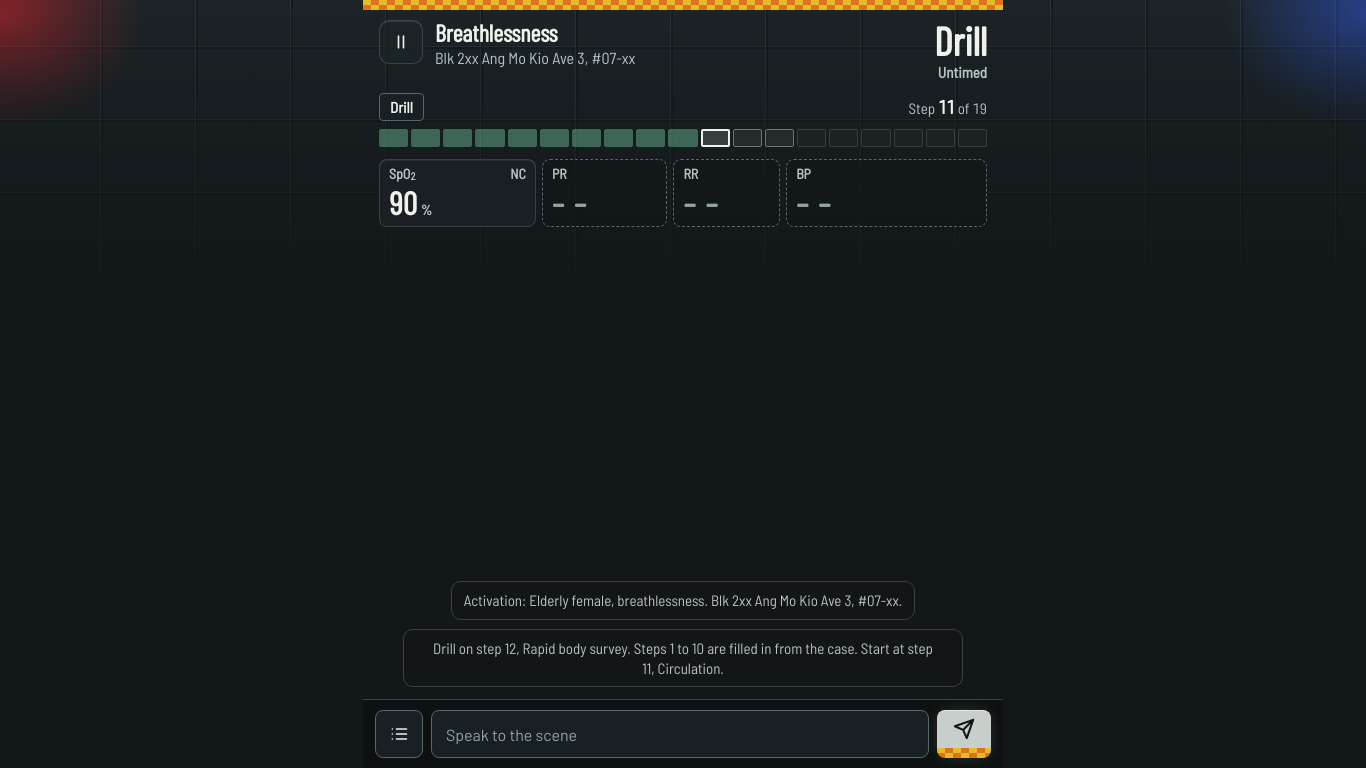
Test: Pause › in a drill the sheet offers End drill, and its confirm ends the drill
Step 1. Click the button named "Pause" → (401, 42), box 379,20 -> 423,64
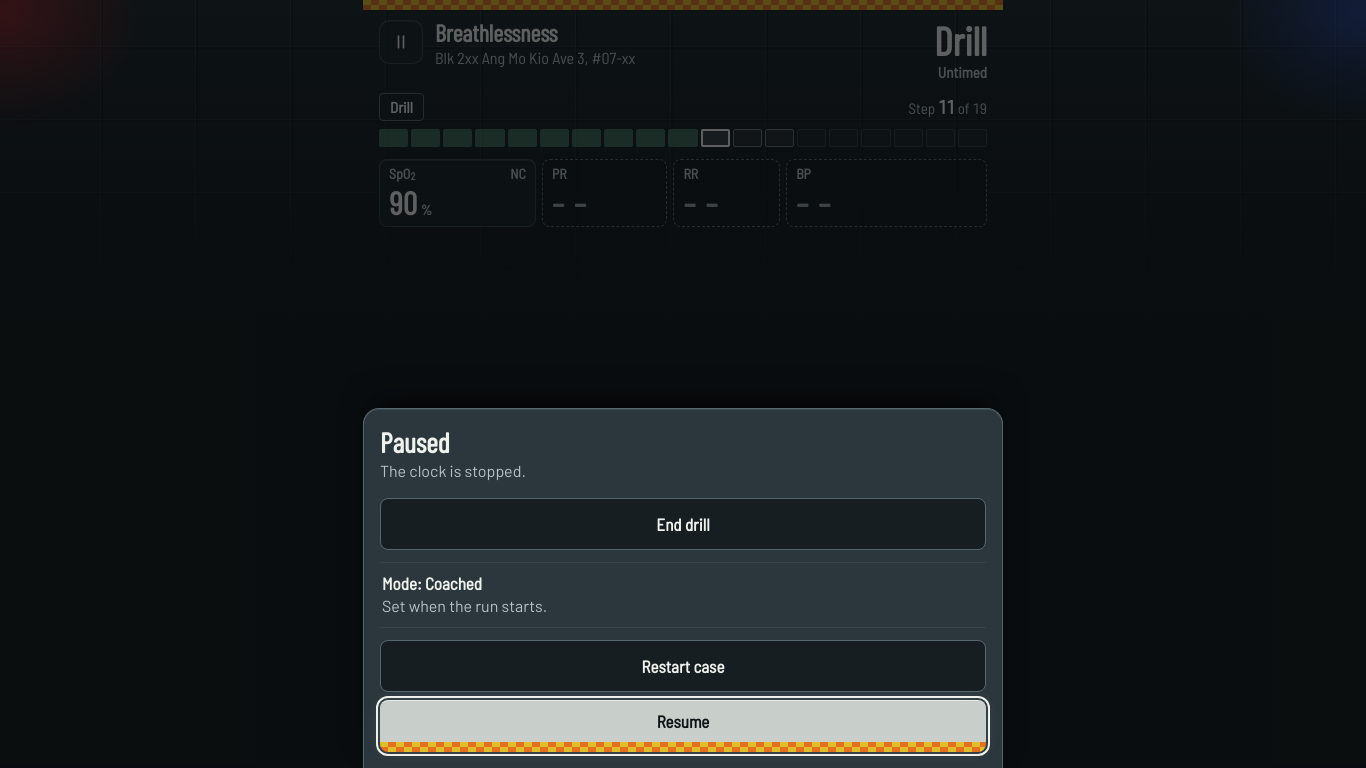
Expected: the text "Mode: Coached" is shown, 382,573 -> 482,593
Expected: the buttons read "End drill", "Restart case", "Resume", in this order
Step 2. Click the button "End drill" → (683, 524), box 380,498 -> 986,550
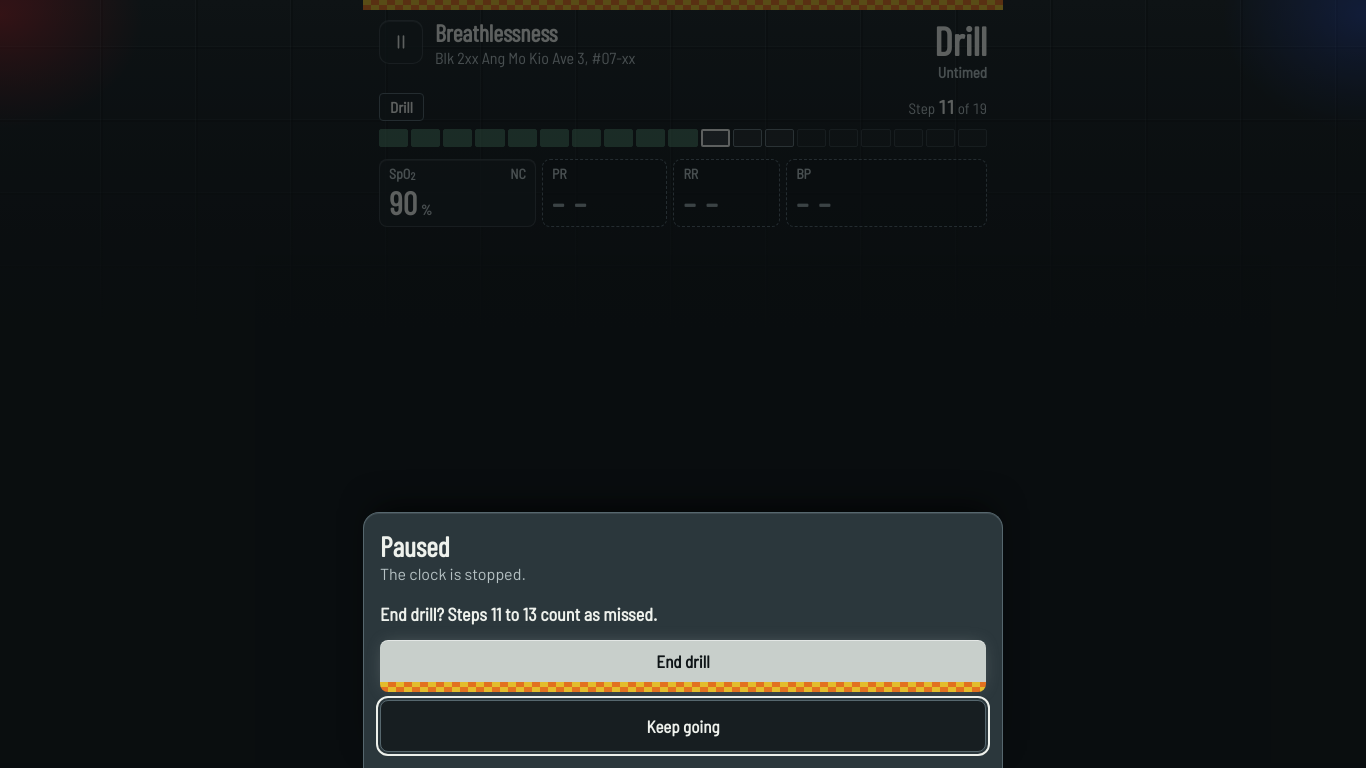
Expected: the text "End drill? Steps 11 to 13 count as missed." is shown, 380,603 -> 657,625
Expected: the buttons read "End drill", "Keep going", in this order, 380,640 -> 986,692; 380,700 -> 986,752
